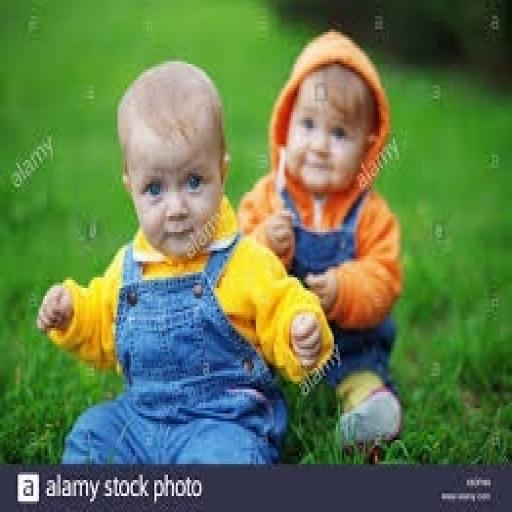sitting: (35, 56, 336, 464), (234, 27, 406, 456)
